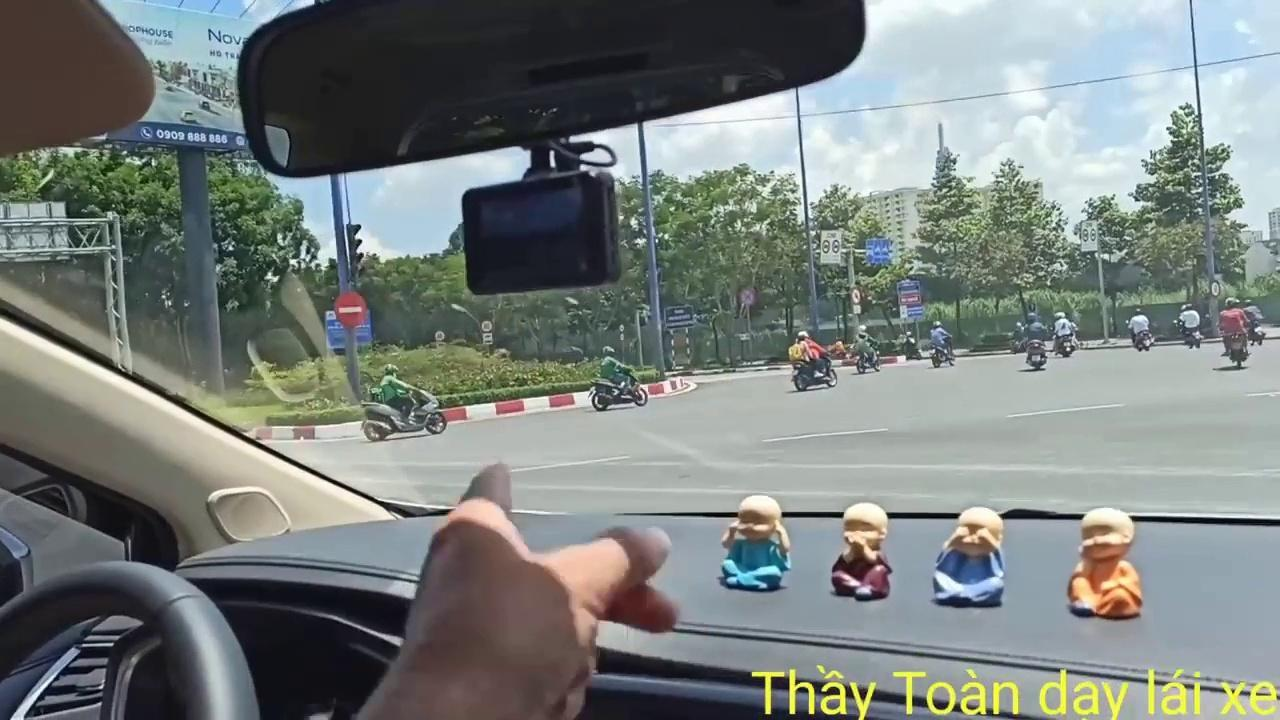Biển phụ: (482, 332, 493, 345)
Cấm cac phương tiện hoạt động trong khung giờ cố định: (820, 229, 841, 265)
Cấm dừng - Cấm đỗ: (739, 287, 757, 305)
Cấm đi ngược chiều: (332, 289, 369, 328)
Khác: (895, 279, 925, 321)
Làn đường cho từng xe: (865, 237, 891, 265)
